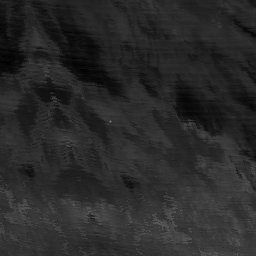Target: (107, 119, 113, 123)
